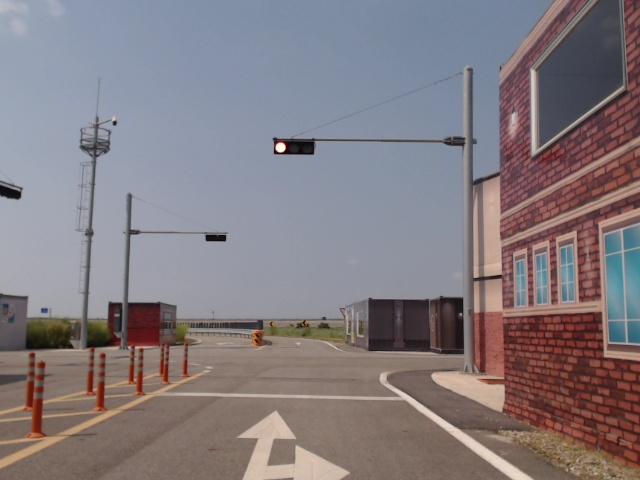red_3: (273, 139, 315, 153)
